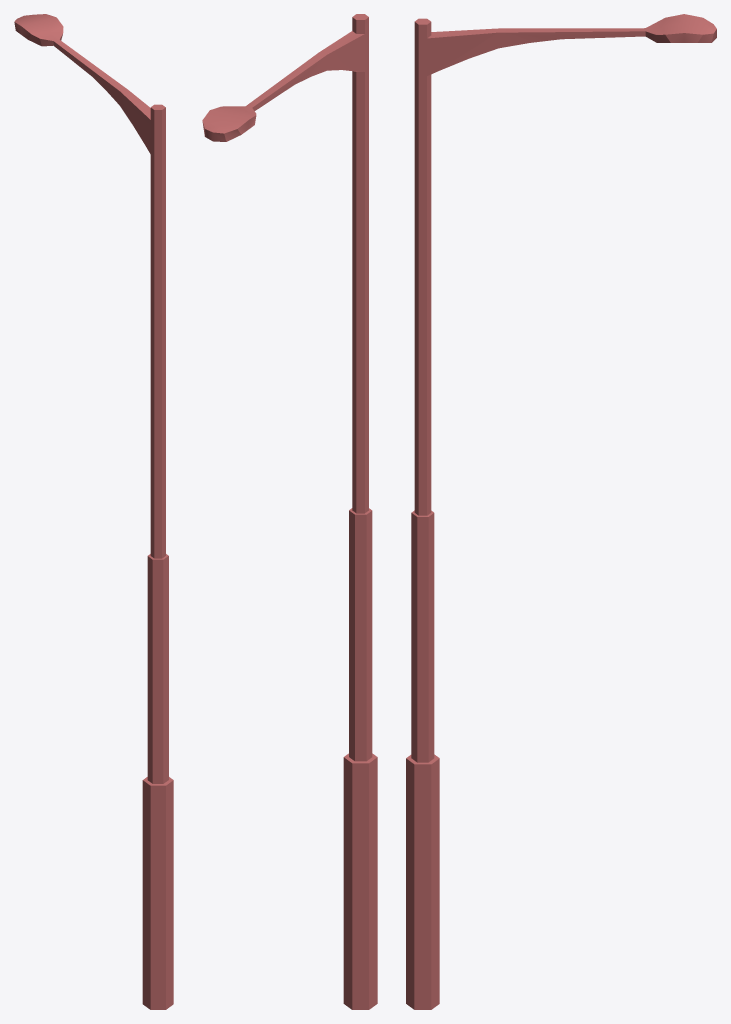
File: streetlamp.fbx
3 views of the same model, side by side, from view 1: azimuth 30°, elevation 25°; view 2: azimuth 150°, elevation 25°; view 3: azimuth 270°, elevation 25° (orthographic). The views are drawn at different scales.
Visible parts, largest first — view 1: streetlight; view 2: streetlight; view 3: streetlight.
Boxes of the visible parts, bbox=[...] form: streetlight: bbox=[14, 14, 173, 1009]; streetlight: bbox=[202, 14, 377, 1009]; streetlight: bbox=[406, 14, 716, 1009].
Size of the model in its own units: 5.54 by 133 by 38.25.
